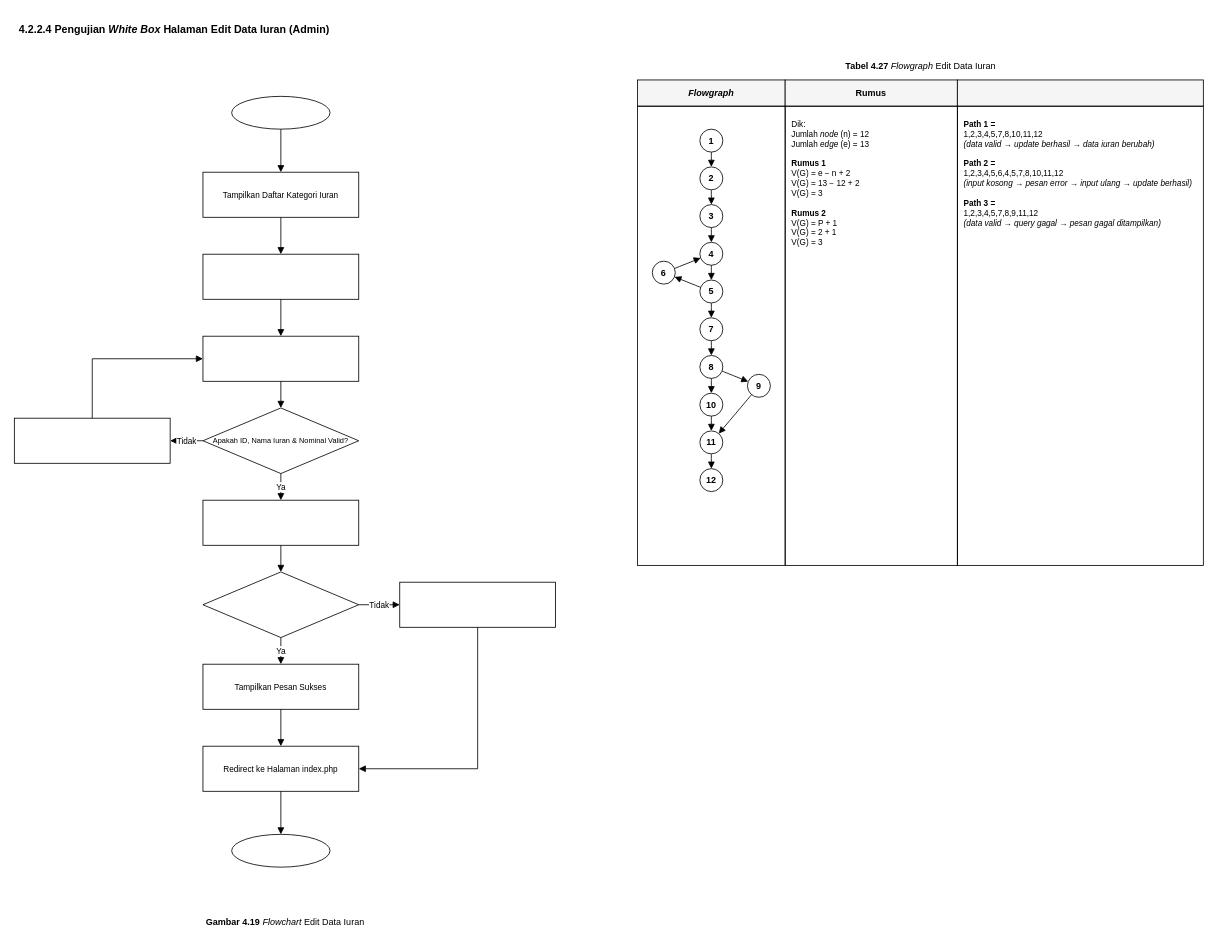
The diagram is 1218 pixels wide and 943 high, and some of its shapes have lost their labels. Here are the shapes that lost their labels. From the top down, the centre of each, then its label:
At pixel 280 112: "Mulai".
At pixel 1080 92: "Jalur Flowgraph".
At pixel 280 276: "Klik Tombol Edit pada Data yang Dipilih".
At pixel 280 358: "Form Terisi Data Lama, Ubah Nama Iuran / Tahun / Periode / Nominal".
At pixel 92 440: "Tampilkan Pesan 'Data yang diedit harus valid!'".
At pixel 280 522: "Update Data ke Database".
At pixel 280 604: "Apakah Query Berhasil?".
At pixel 477 604: "Tampilkan Pesan Gagal".
At pixel 280 850: "Selesai".
